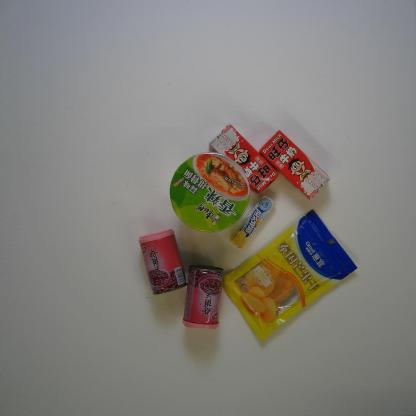Candy: (230, 193, 276, 249)
Canned Food: (138, 228, 188, 295), (181, 264, 225, 330)
Dried Fruit: (222, 209, 358, 342)
Instant Noodles: (169, 152, 251, 233)
Milk: (258, 130, 331, 200), (208, 122, 278, 194)
